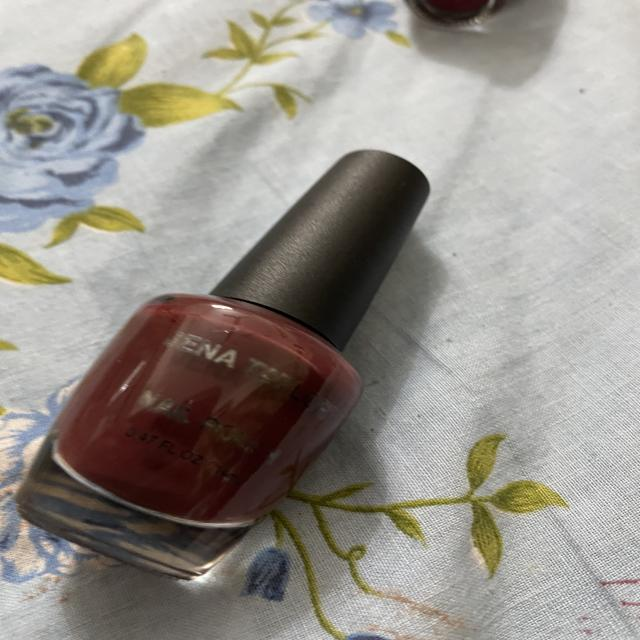nail polish: (9, 140, 470, 582)
